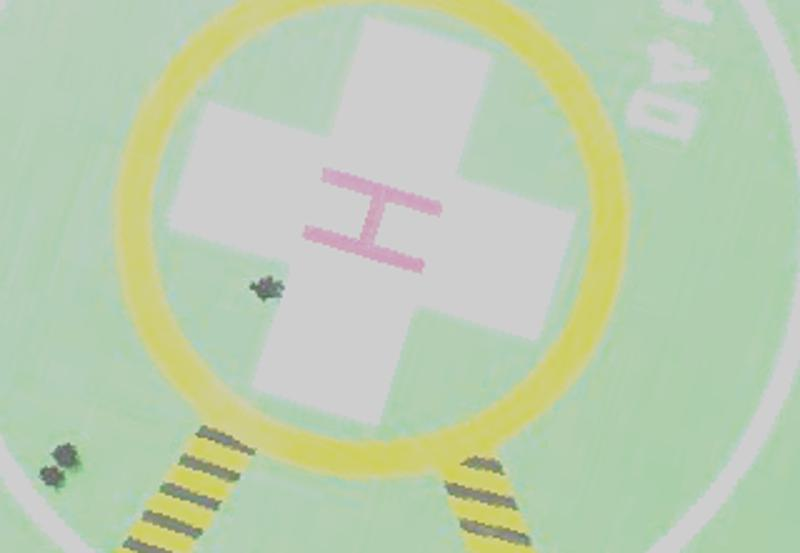Apron: (125, 3, 599, 479)
